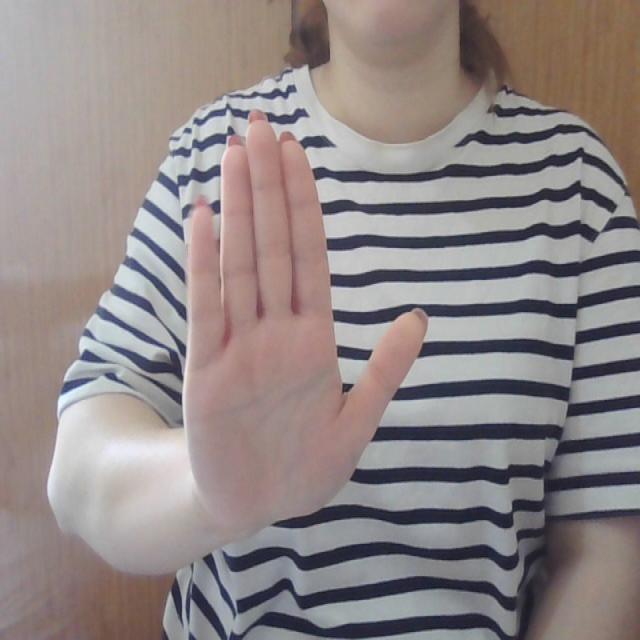Dur: (162, 100, 430, 530)
